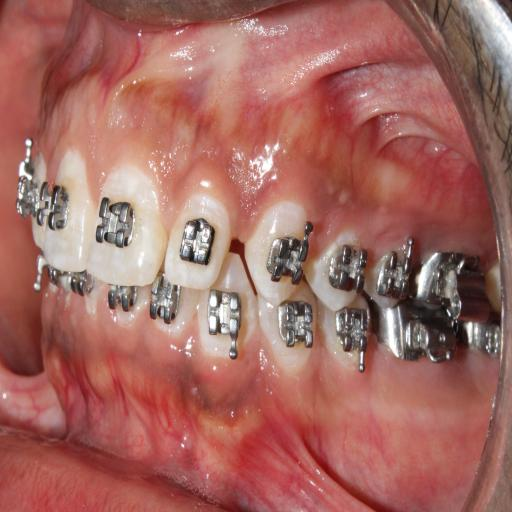correct_brace: (314, 227, 368, 304), (264, 227, 310, 286), (94, 191, 134, 254), (176, 215, 213, 270), (37, 181, 68, 237)
incorrect_brace: (166, 187, 230, 288), (327, 235, 368, 299)
